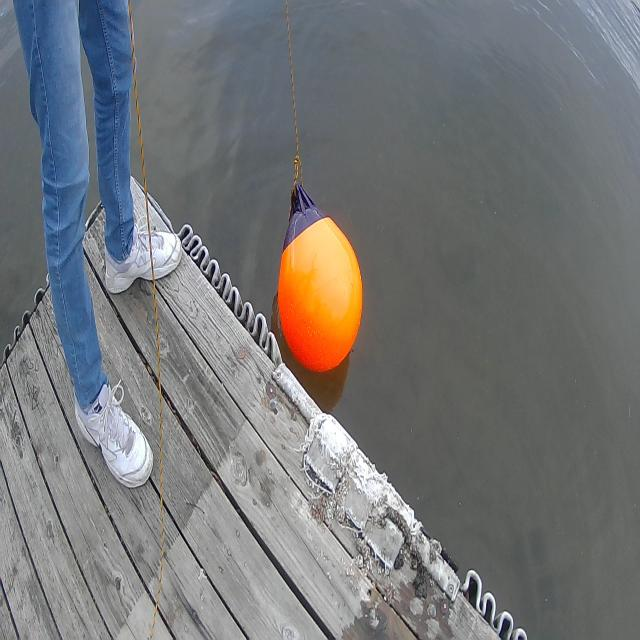Buoy: (266, 178, 372, 386)
